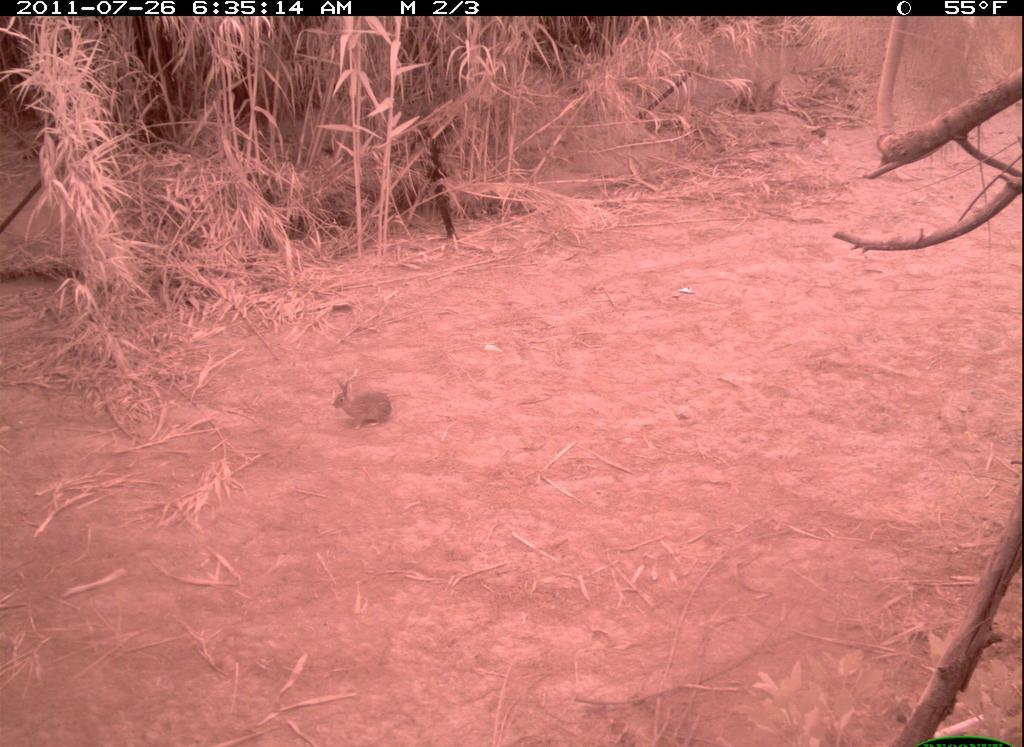rabbit: (314, 372, 402, 441)
